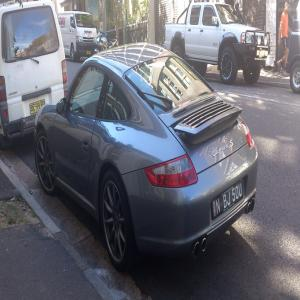Vehicle-registration-plate: (213, 180, 244, 219), (31, 100, 46, 114)
